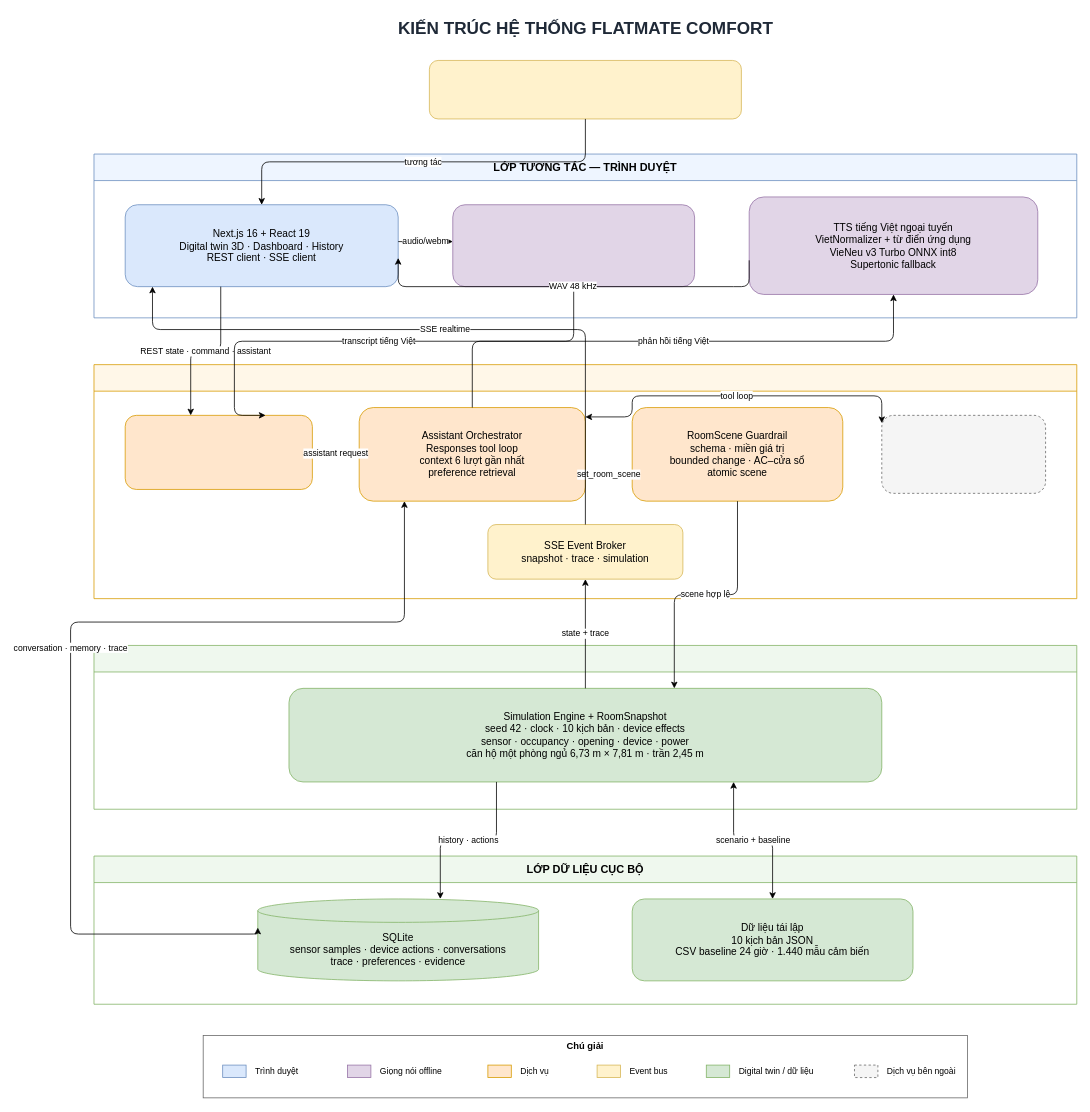
The diagram is 1090 pixels wide and 1112 high, and some of its shapes have lost their labels. Each missing label, with the box of its shape:
ASR tiếng Việt faster-whisper small CPU int8 · VAD · hotwords: (452, 204, 695, 287)
DIGITAL TWIN VÀ MÔ PHỎNG: (93, 645, 1077, 809)
LỚP DỊCH VỤ — FASTAPI: (93, 364, 1077, 599)
Người dùng Văn bản · giọng nói · điều khiển trực tiếp: (429, 60, 741, 119)
OpenAI-compatible Responses API LLM + structured function tools: (881, 415, 1046, 493)
REST API 18 operations Pydantic contracts: (124, 415, 312, 489)
